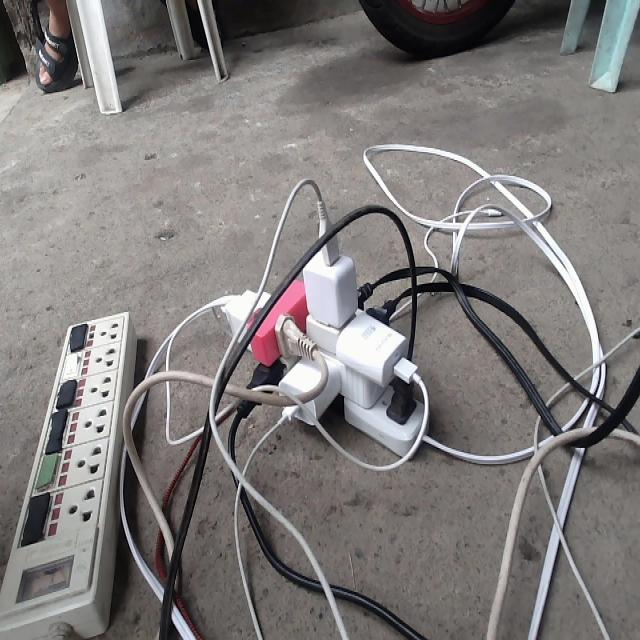-: (224, 235, 430, 457)
